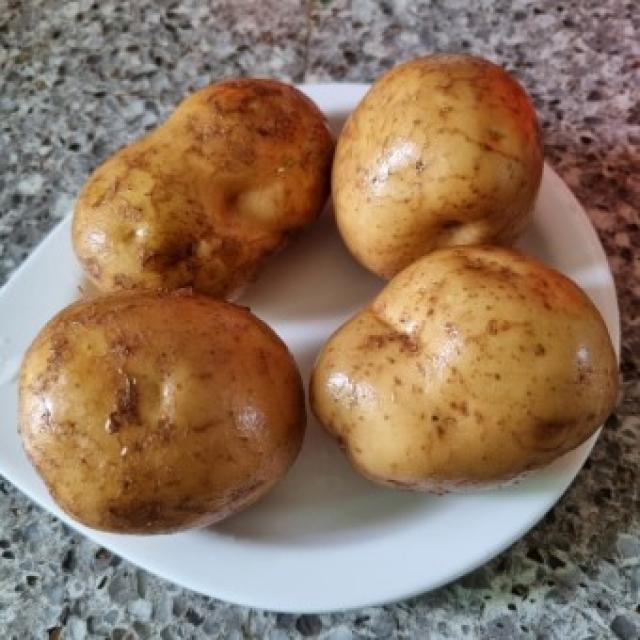potato: (310, 243, 620, 494), (16, 285, 310, 536), (75, 74, 334, 310), (332, 48, 546, 282)
